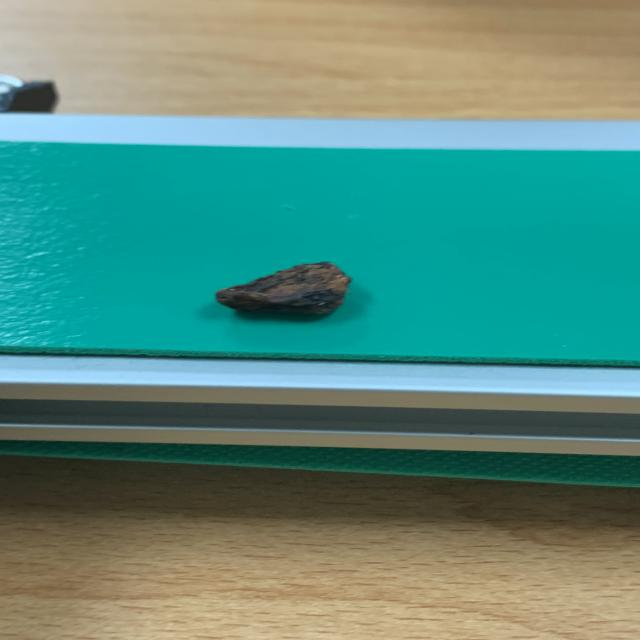Flat_cocoabeans: (109, 217, 440, 363)
